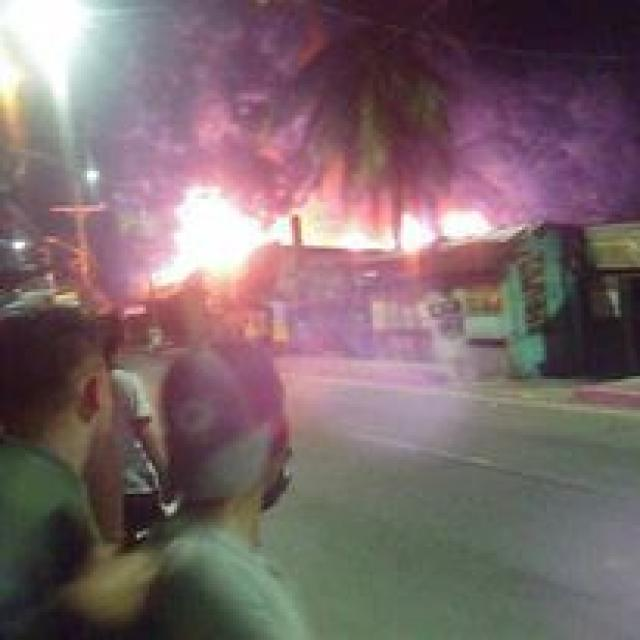Fire: (156, 171, 294, 295), (318, 208, 502, 250)
